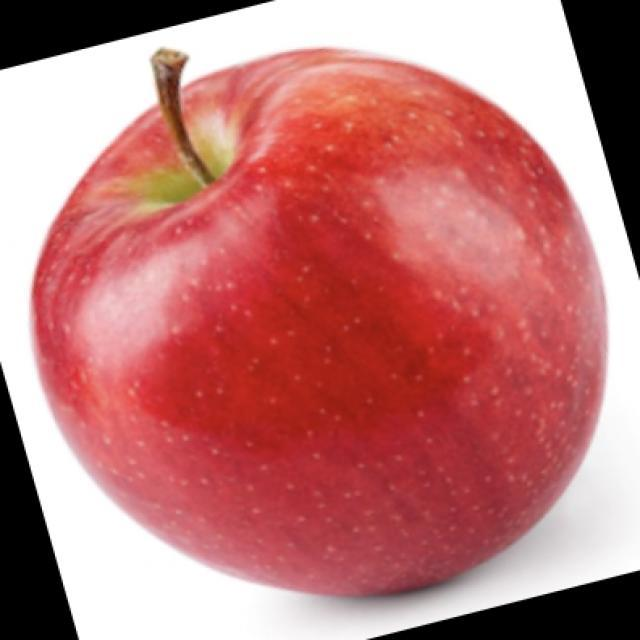Fresh Apple: (53, 41, 593, 640)
